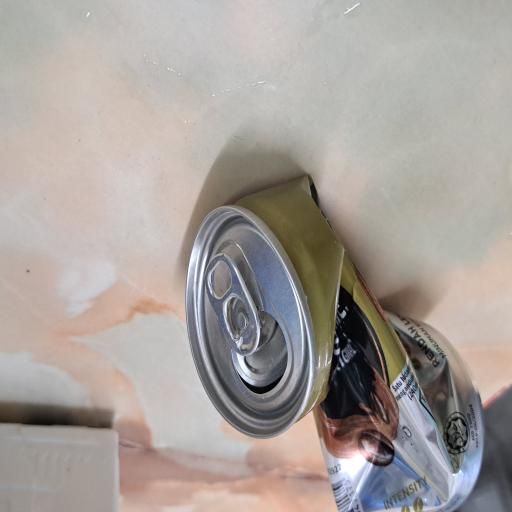can: (26, 0, 329, 338)
pop tab: (252, 156, 308, 256)
